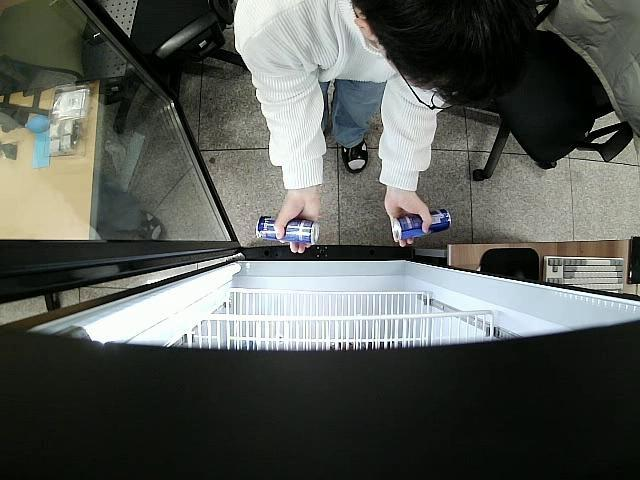16_hot6: (254, 214, 320, 246), (392, 208, 452, 242)
